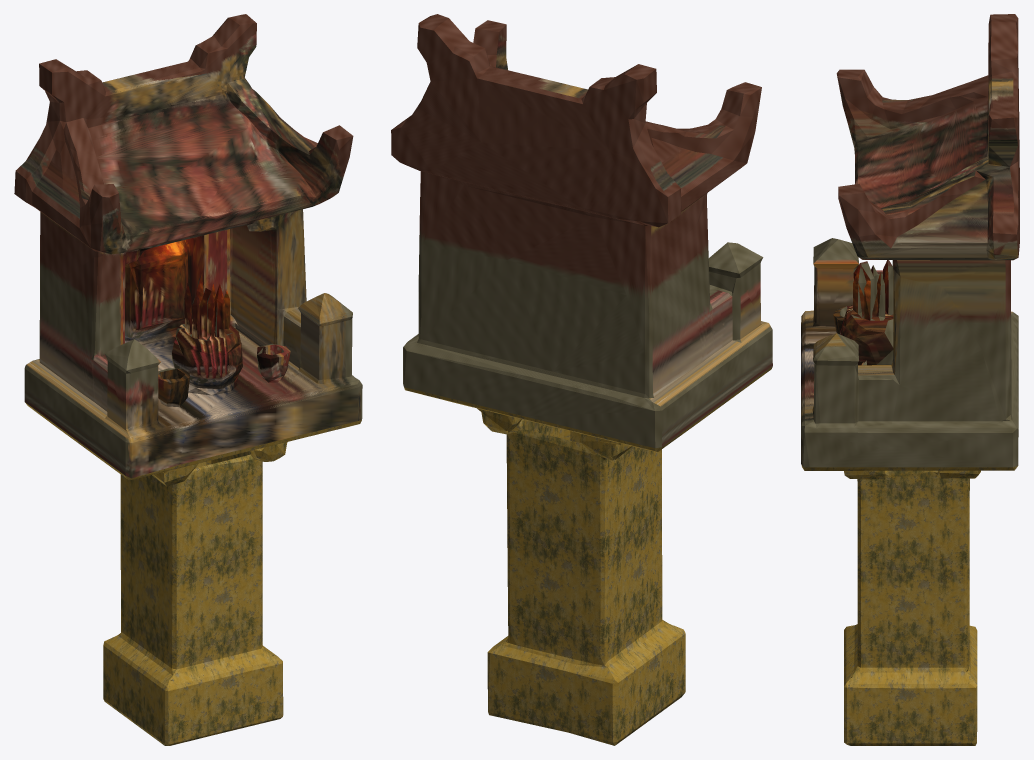
Rendered from roadside_shrine_reduced.glb.
3 views of the same model, side by side, from view 1: azimuth 30°, elevation 25°; view 2: azimuth 150°, elevation 25°; view 3: azimuth 270°, elevation 25° (orthographic). The views are drawn at different scales.
Parts seen in each view (by area): view 1: ShrineDetails, TiledPillar; view 2: ShrineDetails, TiledPillar; view 3: ShrineDetails, TiledPillar.
Part boxes in pixels (bbox=[...]): ShrineDetails: bbox=[14, 14, 362, 478]; TiledPillar: bbox=[25, 402, 361, 745]; ShrineDetails: bbox=[391, 14, 772, 448]; TiledPillar: bbox=[404, 366, 772, 745]; ShrineDetails: bbox=[801, 14, 1019, 467]; TiledPillar: bbox=[801, 465, 1017, 745].
Bounding box in the file's own units: 0.8386 × 1.99 × 0.6047.
Materials: 2 (2 with a texture image).
